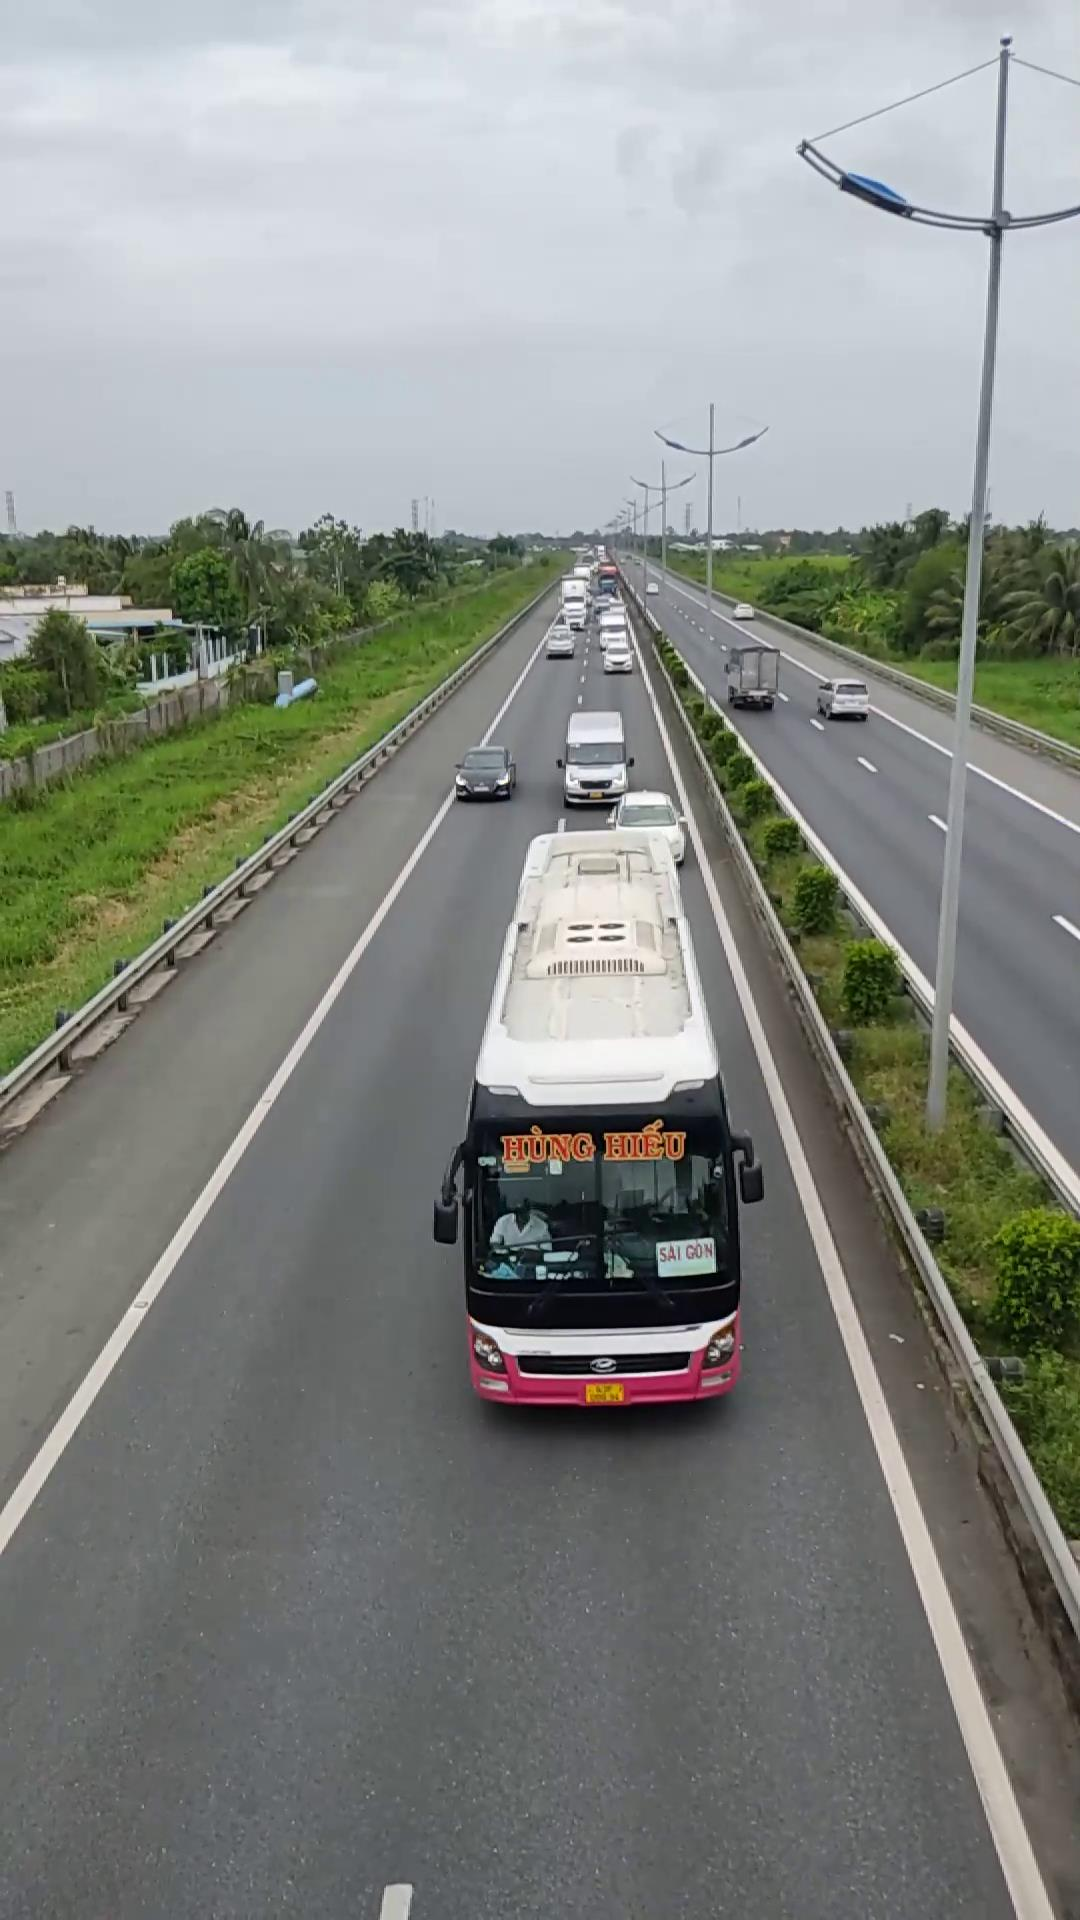bus: (434, 804, 757, 1407)
